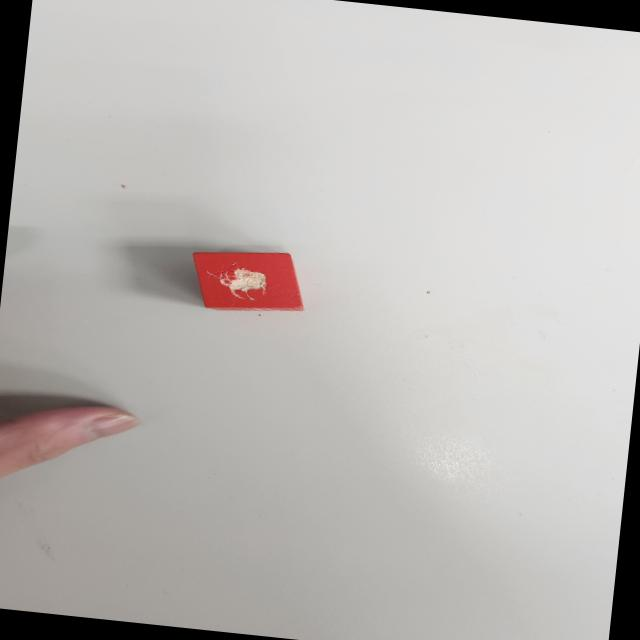broken: (184, 242, 310, 319)
